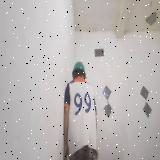Helmet: (72, 62, 86, 77)
